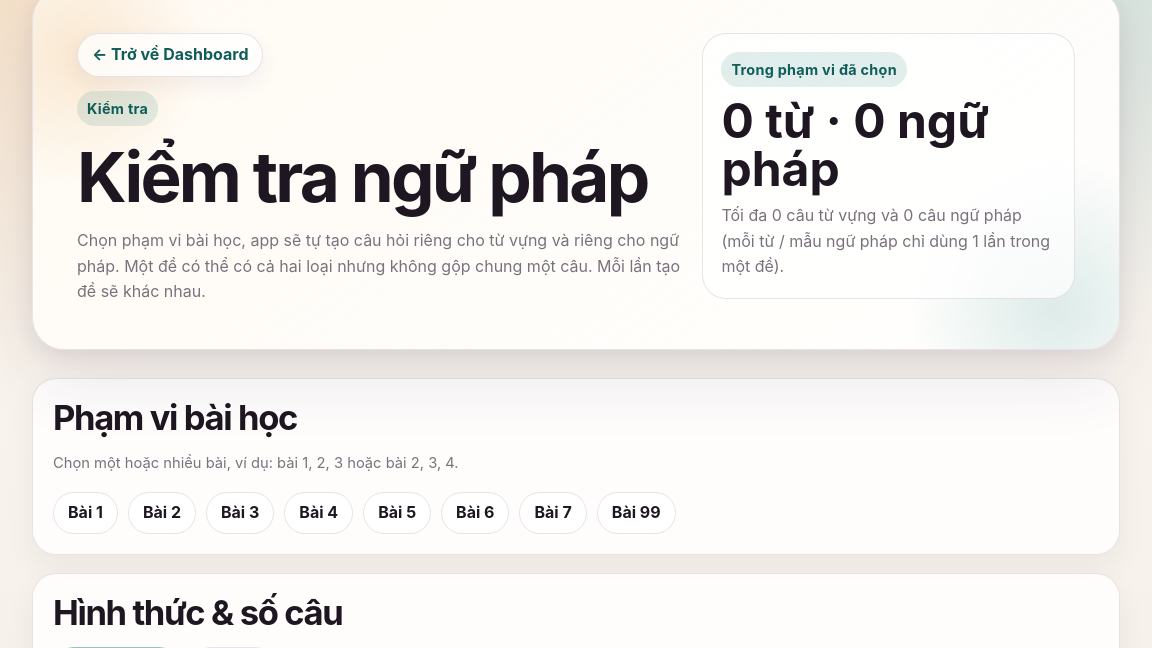
Test: GrammarExamPage — làm đề trắc nghiệm › hiện đáp án đúng cho câu trả lời sai
Click the button "Bài 99". click: [636, 513]
box: [597,492,676,534]
(page scrolled)
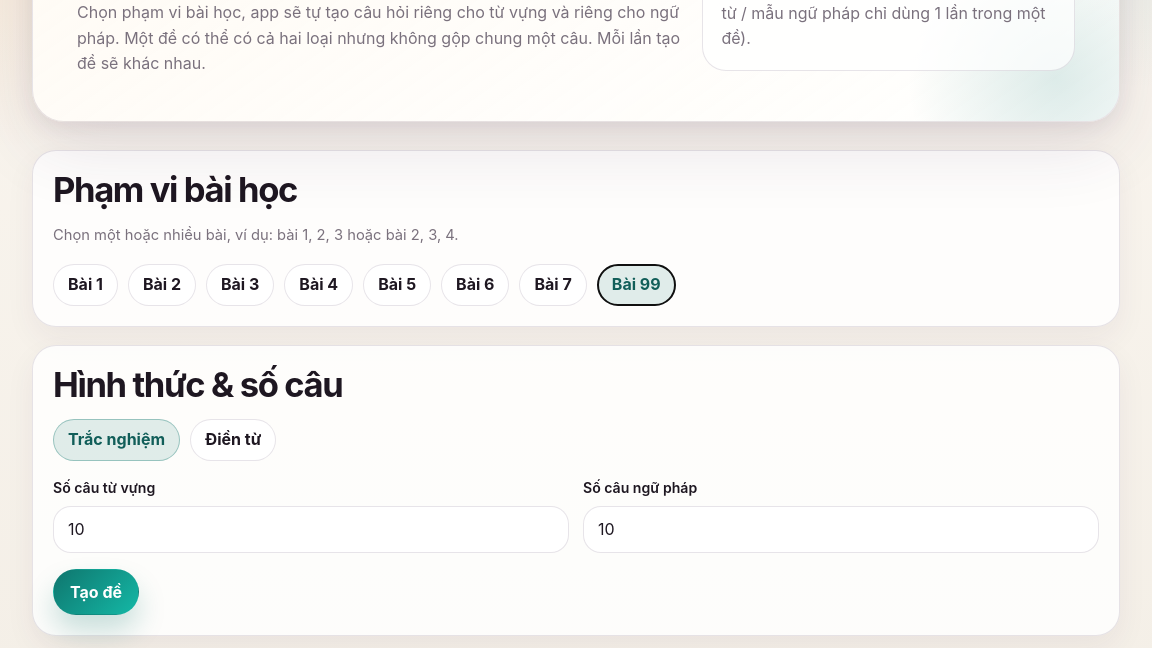
Click the button "Tạo đề". click: [96, 592]
box: [53,569,139,615]
(page scrolled)
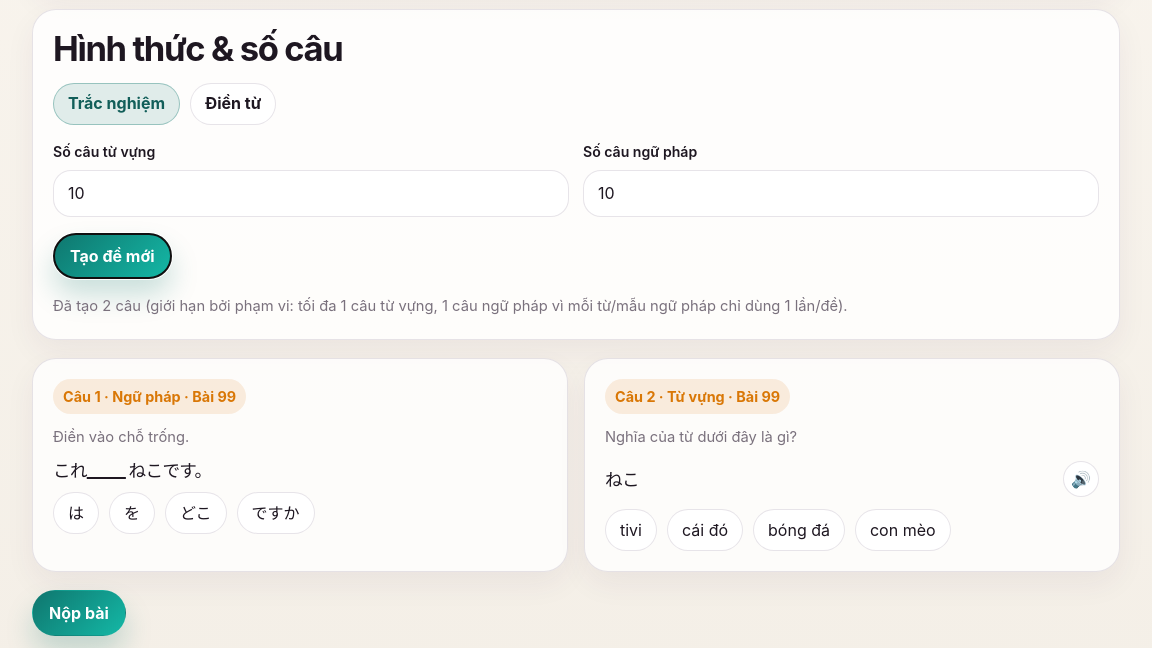
Click the button "con mèo". click: [903, 530]
box: [855,510,951,552]
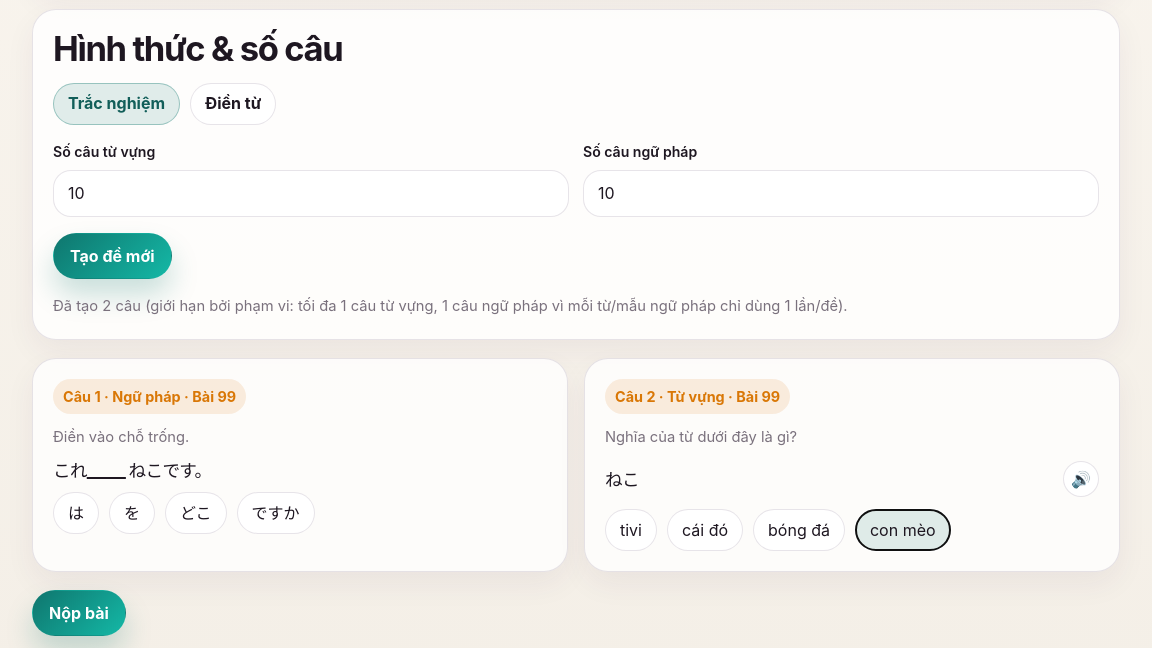
Click the button "Nộp bài". click: [79, 614]
box: [32,590,126,636]
(page scrolled)
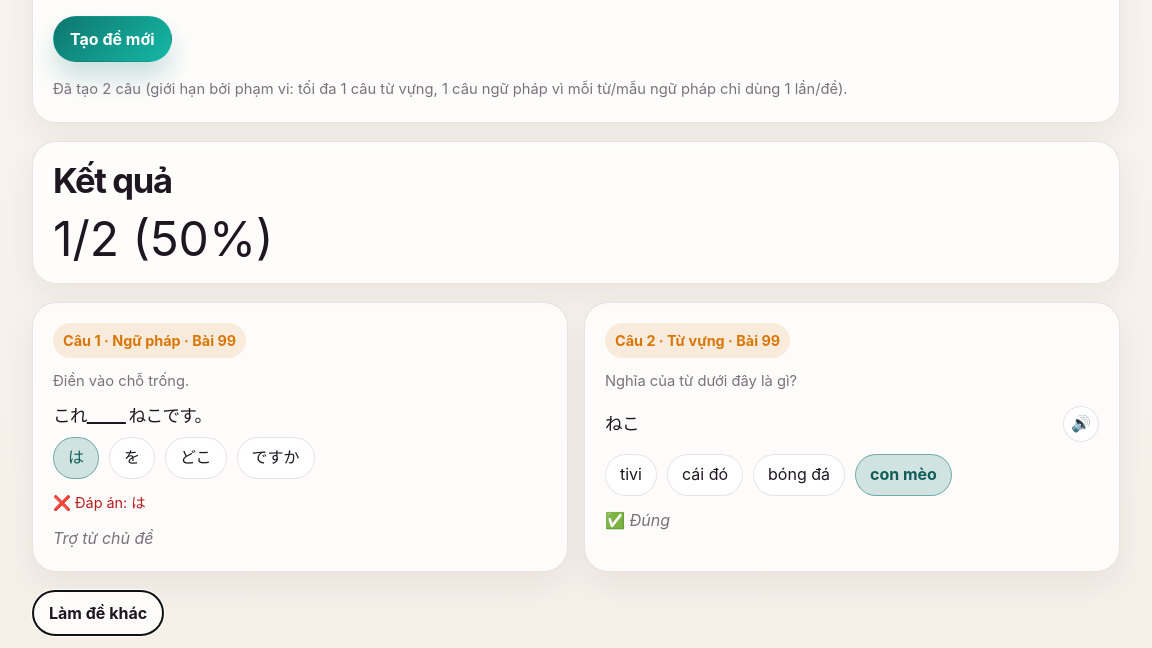
Expected: the text "1/2 (50%)" is shown, [53,209,274,268]
Expected: the text "❌ Đáp án: は" is shown, [53,494,146,511]
